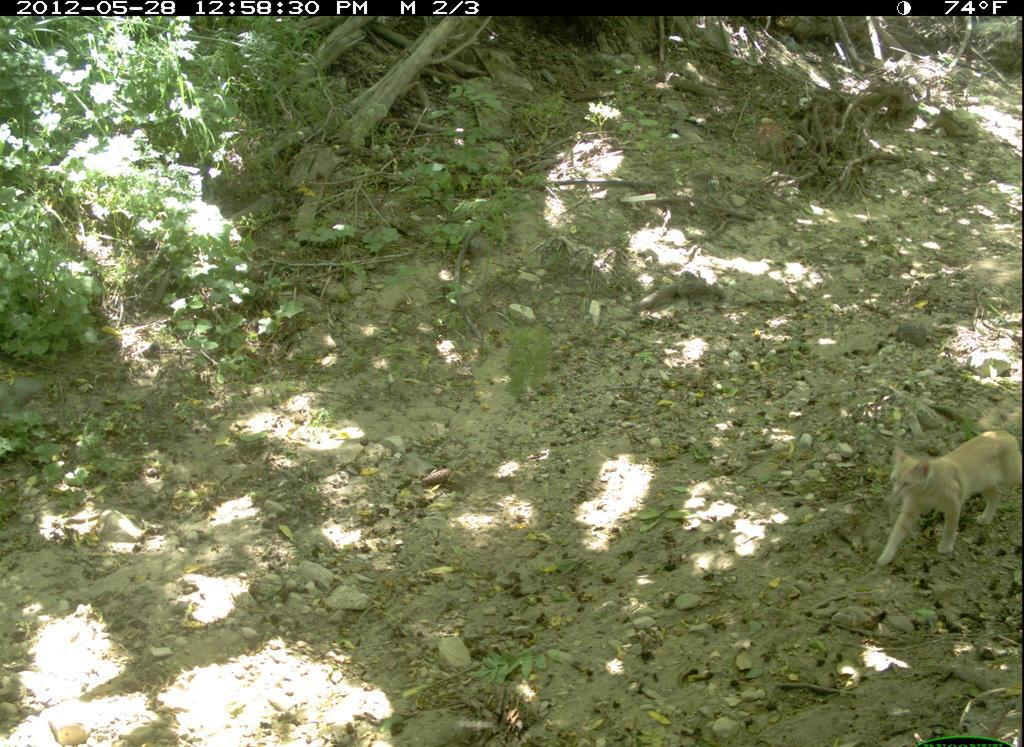cat: (877, 429, 1022, 573)
